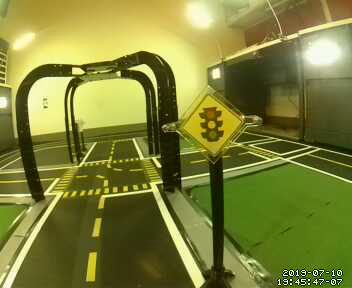Traffic light sign: (183, 92, 243, 155)
